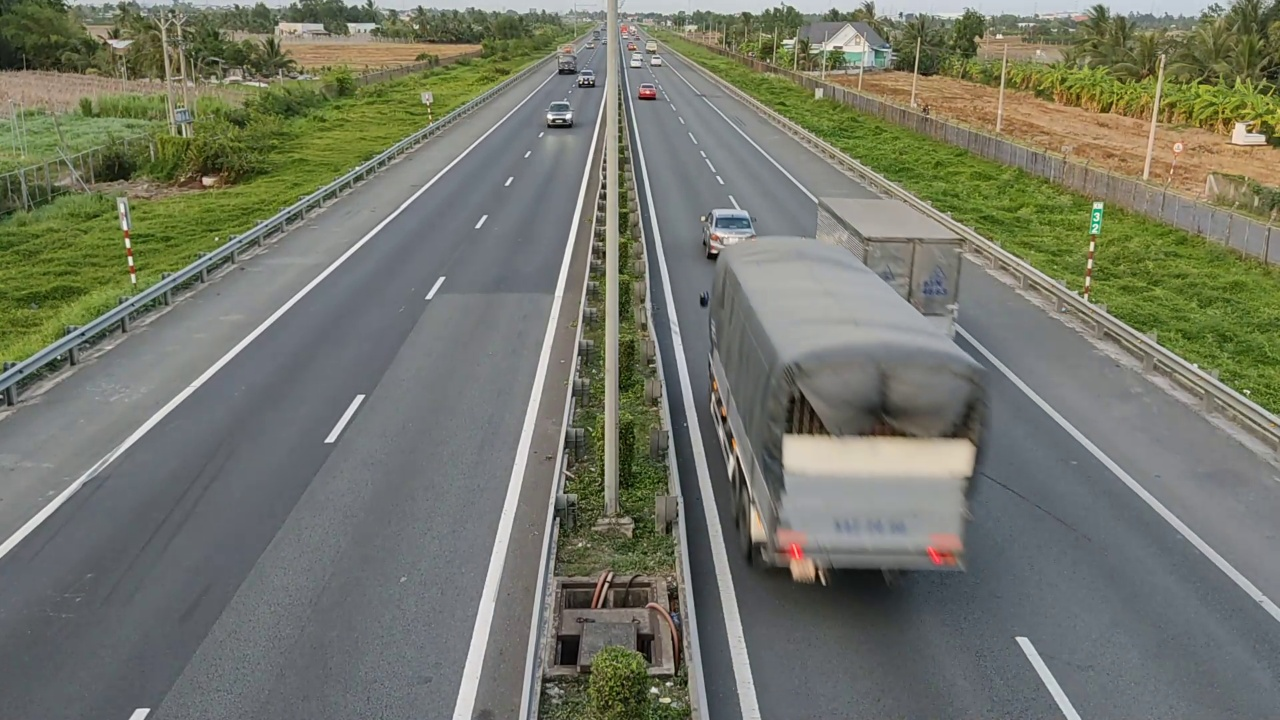car: (700, 207, 757, 259), (546, 100, 575, 127), (637, 82, 659, 99), (557, 55, 577, 73), (577, 68, 596, 86)
truck: (706, 235, 993, 589)
